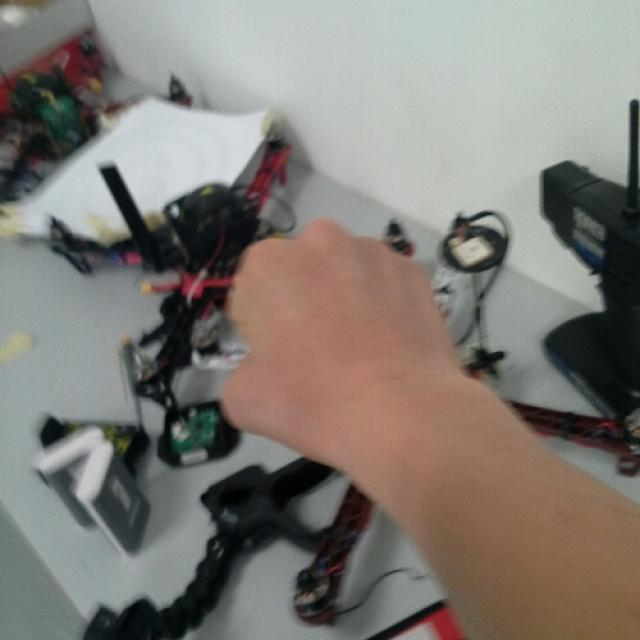rock: (222, 215, 458, 444)
